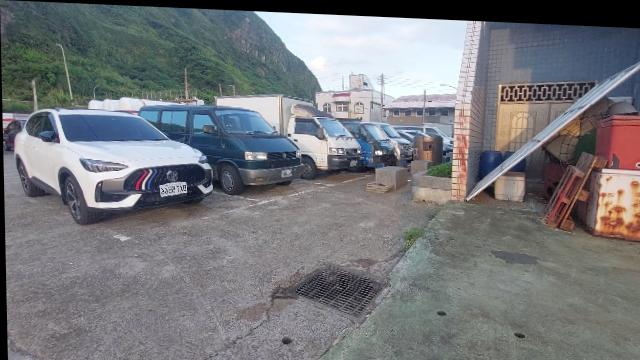pollute: (537, 86, 640, 237), (478, 145, 517, 177), (493, 165, 527, 196)
